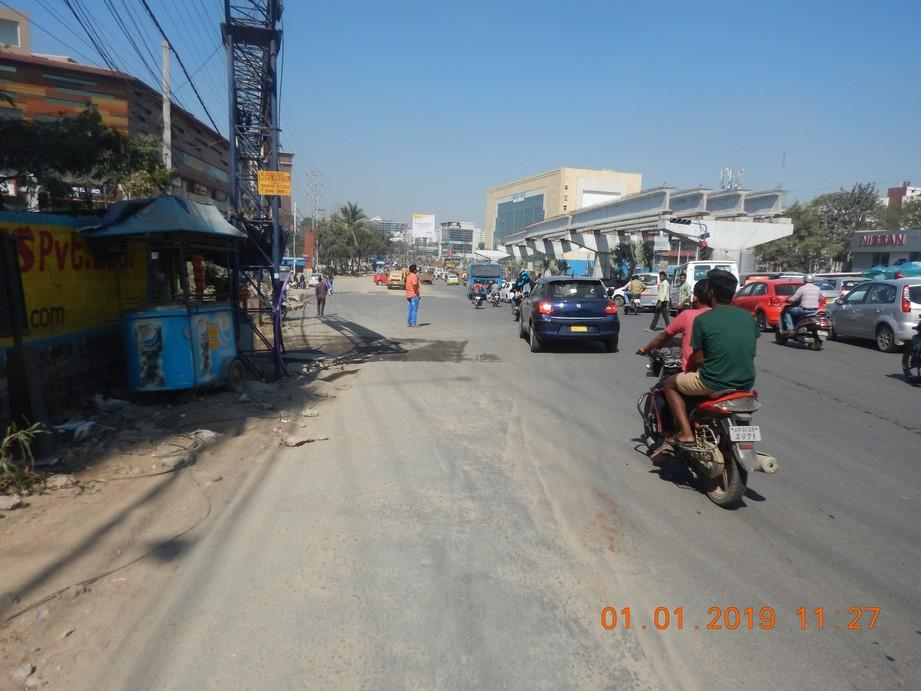plate: (729, 425, 762, 441)
